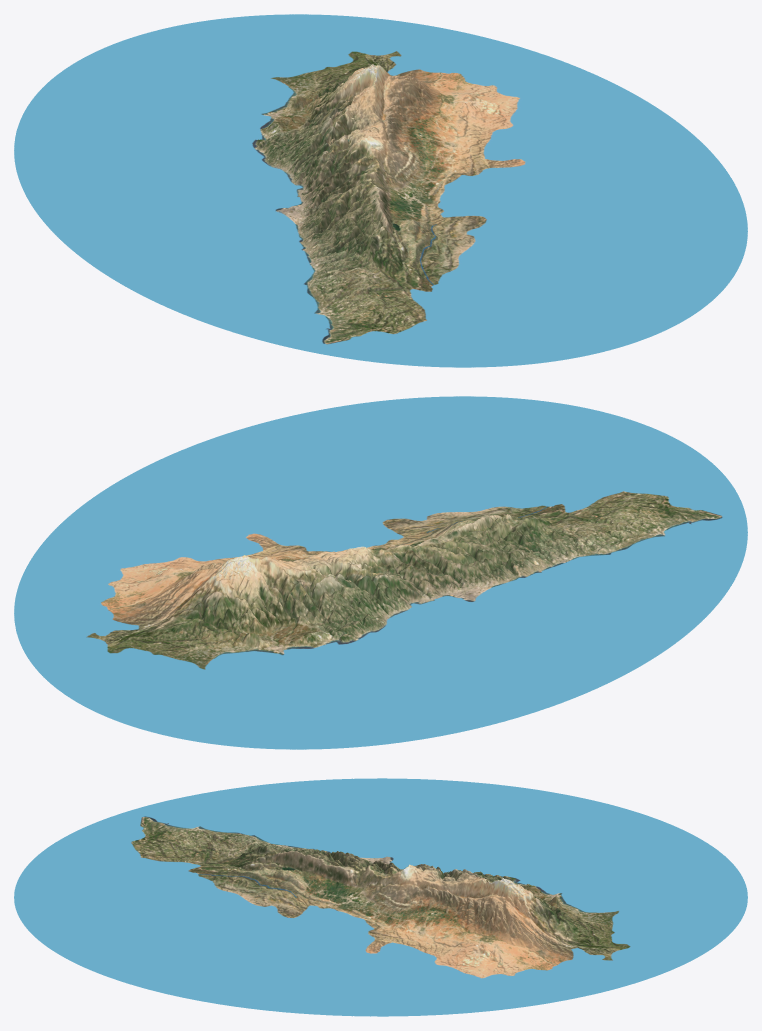
File: LBN-previa-terrain.glb
The picture shows the model from 3 angles, top to bottom: view 1: azimuth 30°, elevation 25°; view 2: azimuth 150°, elevation 25°; view 3: azimuth 270°, elevation 25°; orthographic projection. The views are drawn at different scales.
Visible parts, largest first — view 1: Líbano; view 2: Líbano; view 3: Líbano.
Boxes of the visible parts, bbox=[...] form: Líbano: bbox=[14, 14, 747, 367]; Líbano: bbox=[14, 396, 747, 749]; Líbano: bbox=[14, 778, 747, 1016].
Bounding box in the file's own units: 1.98 × 0.1723 × 2.58.
1 material, 1 textured.
